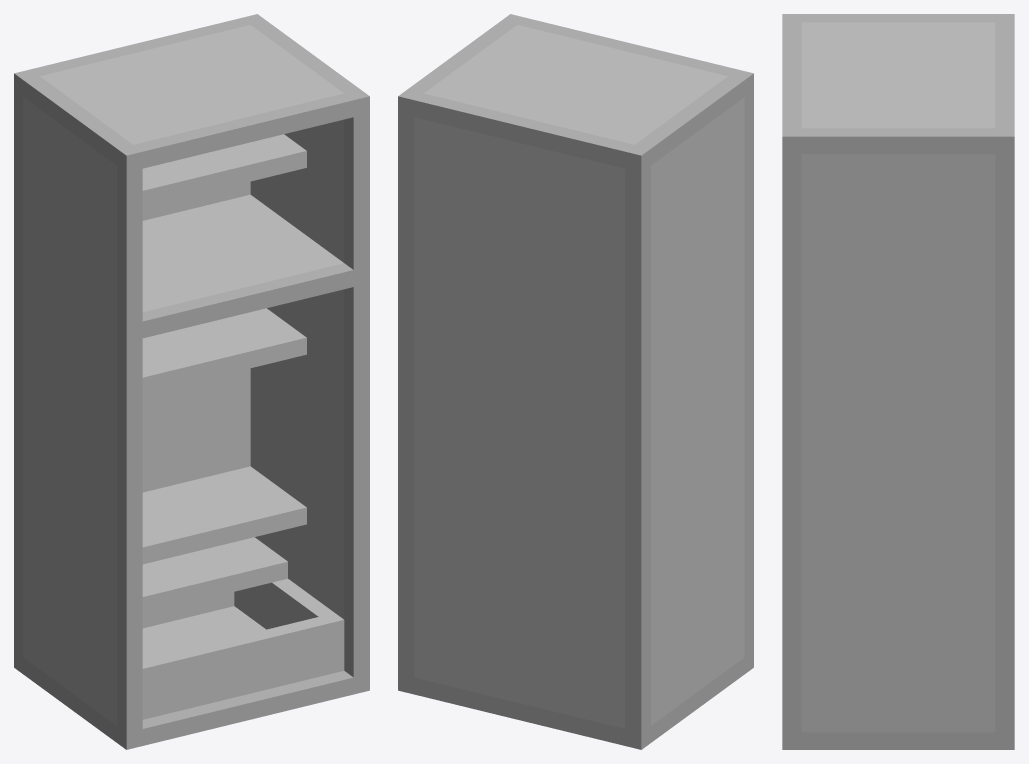
Rendered from Decor-44.obj.
The picture shows the model from 3 angles, left to right: view 1: azimuth 30°, elevation 25°; view 2: azimuth 150°, elevation 25°; view 3: azimuth 270°, elevation 25°; orthographic projection. The views are drawn at different scales.
Size of the model in its own units: 1.5 by 3.5 by 1.2.
Materials: 1 (1 with a texture image).
